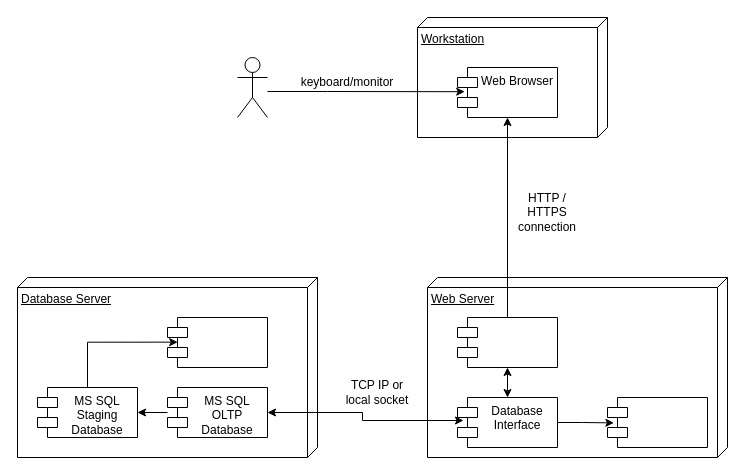
The diagram is 745 pixels wide and 475 high, and some of its shapes have lost their labels. Each missing label, with the centre of its shape:
"Logging Service" goes at (x=657, y=422).
"MS SQL OLAP Database" goes at (x=217, y=342).
"Presentation Layer (web interface)" goes at (x=507, y=342).
"User" goes at (x=252, y=87).
